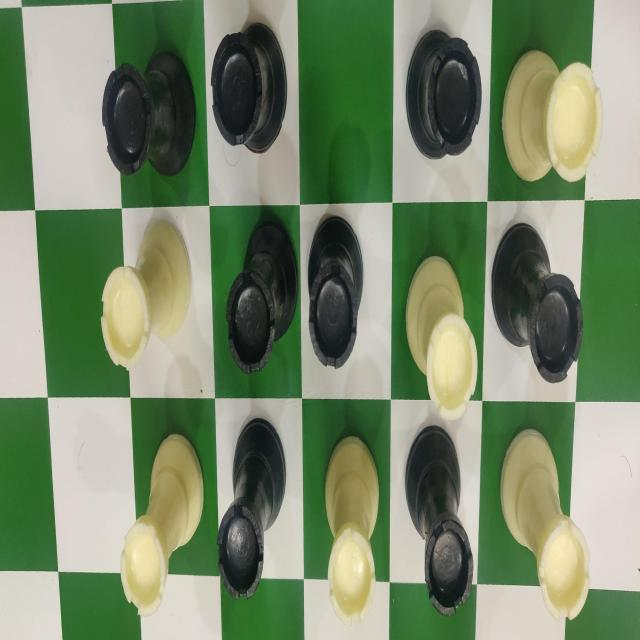black-rook: (490, 223, 584, 384), (405, 425, 474, 617), (216, 416, 287, 600), (101, 50, 197, 177), (224, 222, 298, 375), (210, 22, 288, 154), (404, 29, 482, 160), (308, 215, 364, 370)
white-rook: (499, 428, 591, 620), (120, 432, 204, 616), (100, 220, 192, 372), (500, 49, 603, 181), (405, 256, 478, 421), (324, 435, 379, 626)
